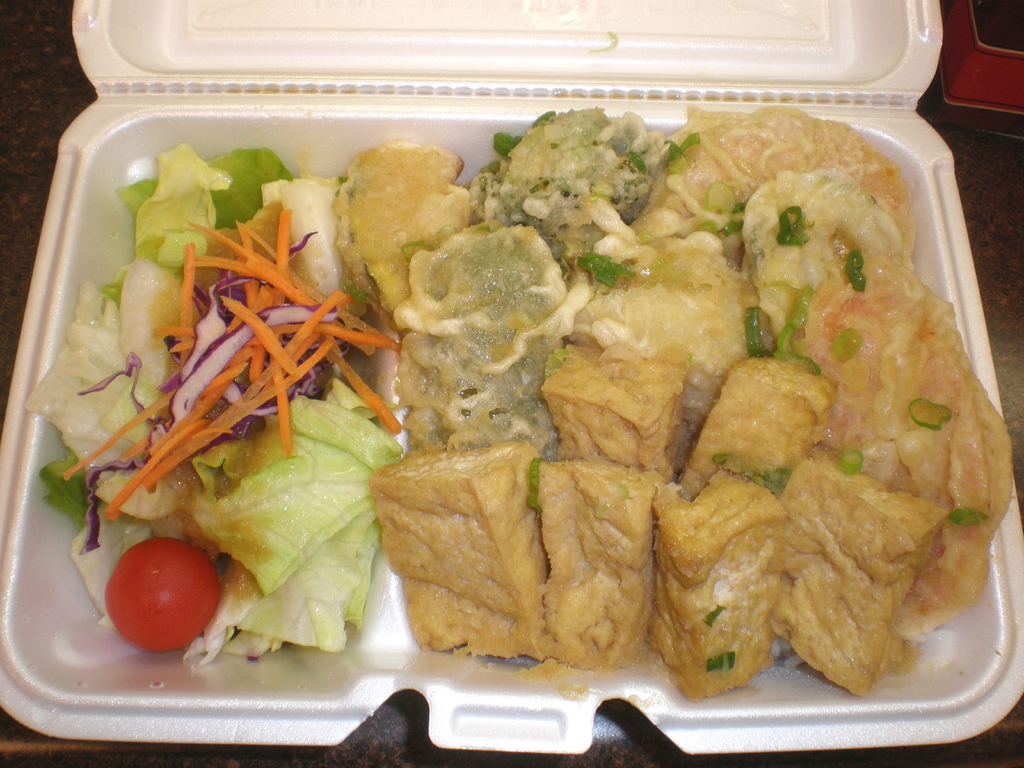Tomato: (96, 528, 216, 652)
